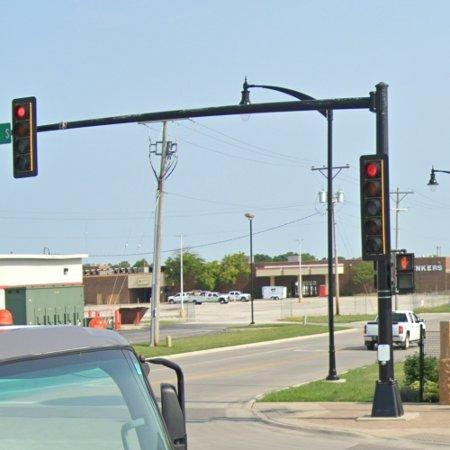traffic lights: (359, 154, 392, 261), (11, 94, 39, 180), (396, 252, 417, 293)
